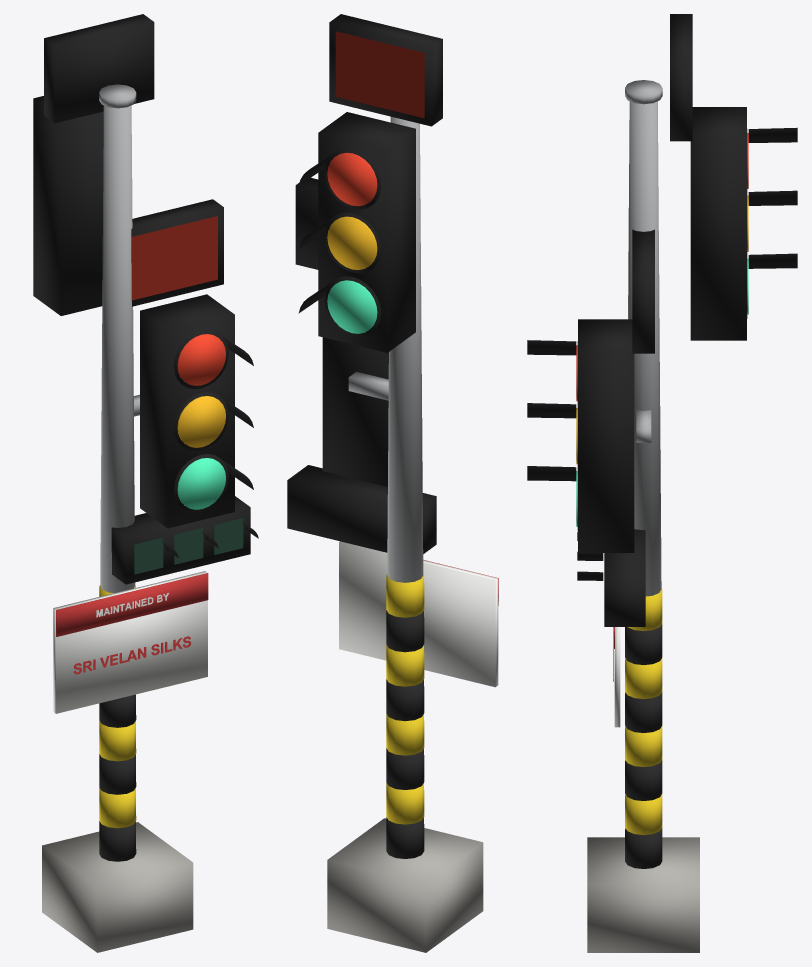
Rendered from signal_india.glb.
3 renders of one model, left to right at view 1: azimuth 30°, elevation 25°; view 2: azimuth 150°, elevation 25°; view 3: azimuth 270°, elevation 25°, orthographic. The views are drawn at different scales.
Parts seen in each view (by area): view 1: Signal pole; view 2: Signal pole; view 3: Signal pole.
Part boxes in pixels (x1,y1,x2,y2): Signal pole: [33, 14, 258, 952]; Signal pole: [287, 14, 498, 952]; Signal pole: [527, 14, 797, 952].
Size of the model in its own units: 1.18 by 5.24 by 1.44.
